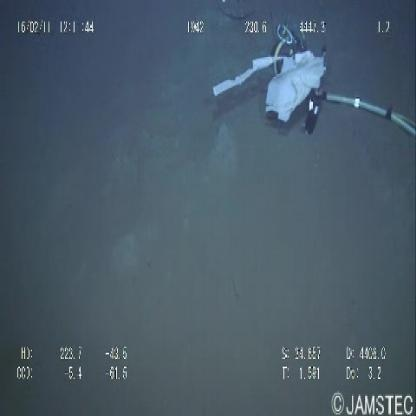Rác: (213, 43, 325, 126)
